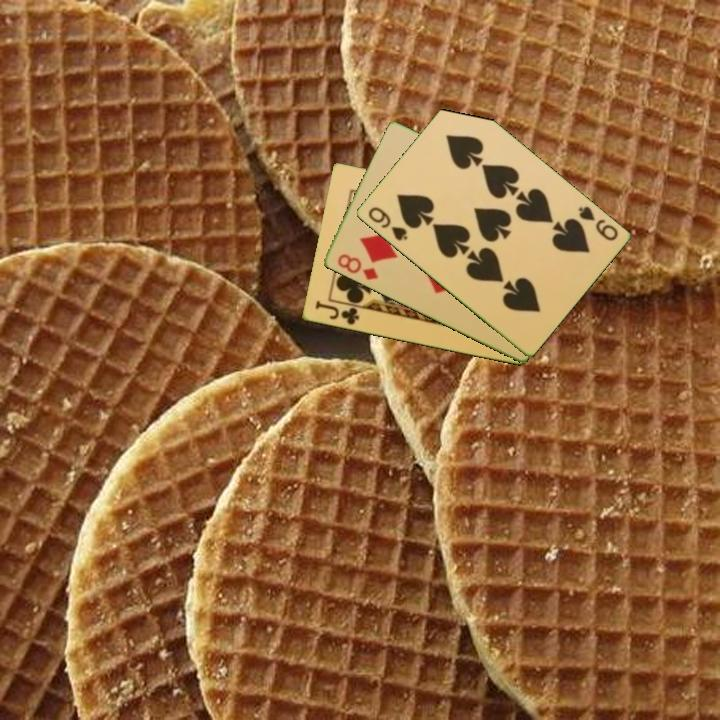8d: (334, 250, 381, 283)
9s: (574, 203, 621, 244), (364, 203, 410, 244)
Jc: (311, 298, 362, 328)
